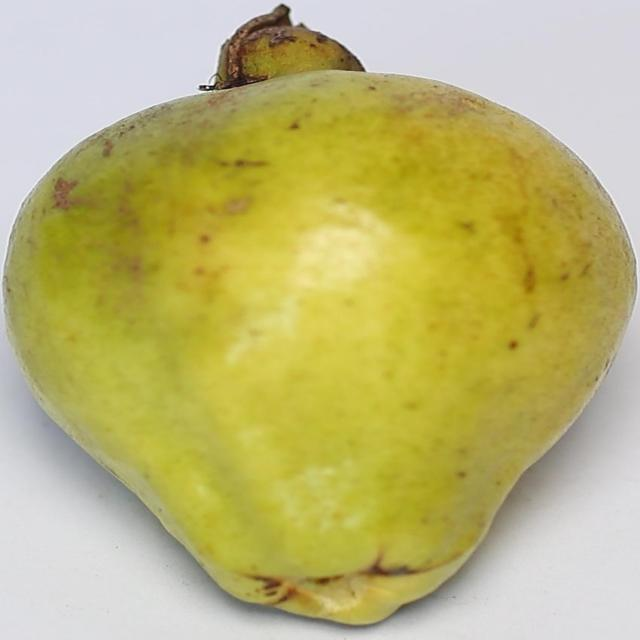Good_Guava: (2, 67, 638, 629)
